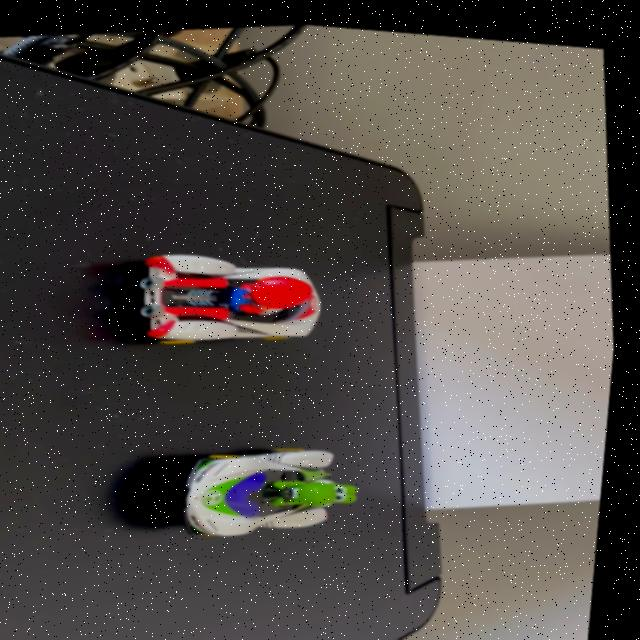mario: (118, 228, 354, 369)
yoshi: (164, 414, 387, 555)
